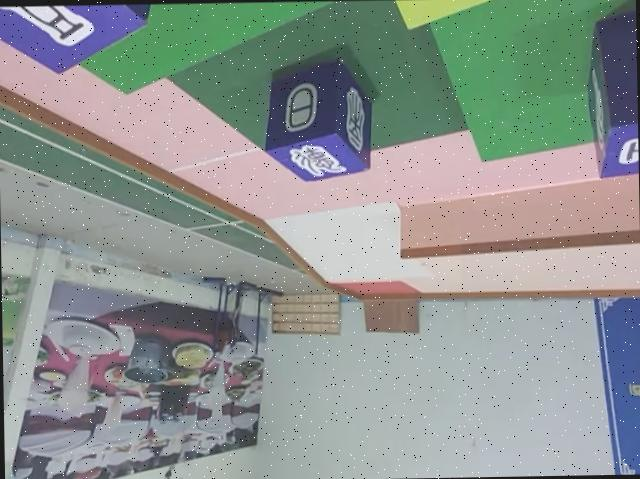R2 Fake Blue: (264, 52, 374, 178)
R2 Real Blue: (0, 2, 157, 73)
